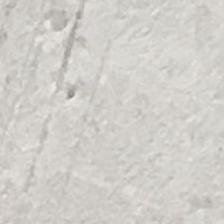Non_Crack: (22, 30, 202, 213)
